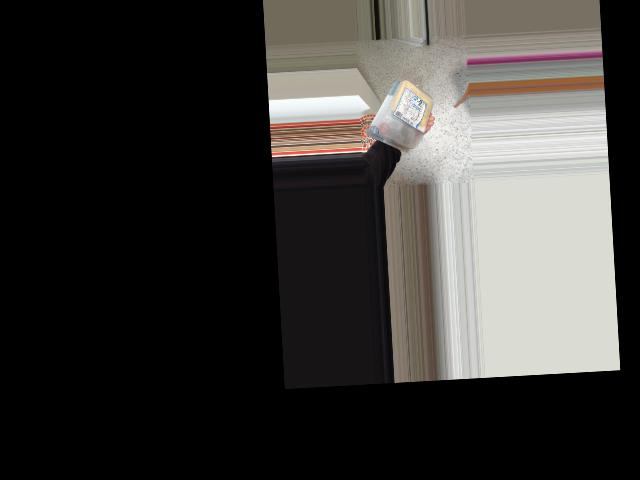cheese: (368, 73, 436, 153)
